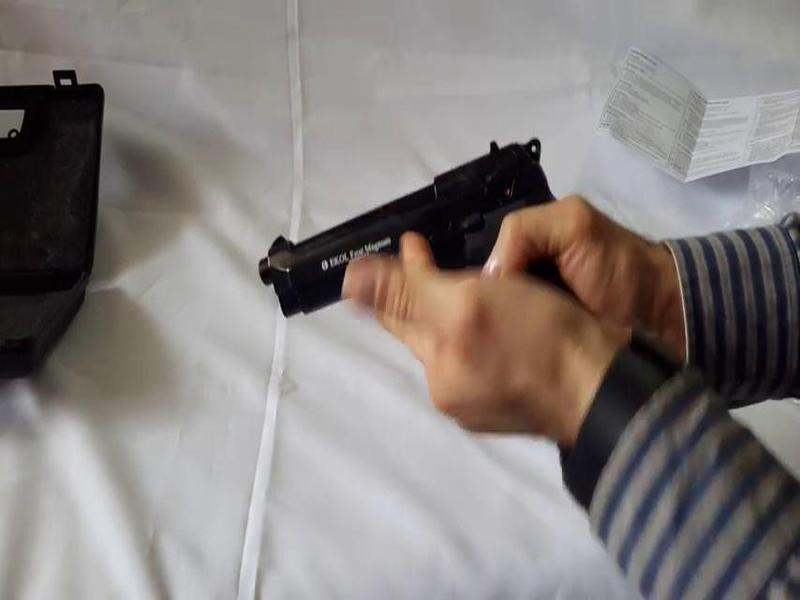Pistola: (261, 148, 572, 319)
